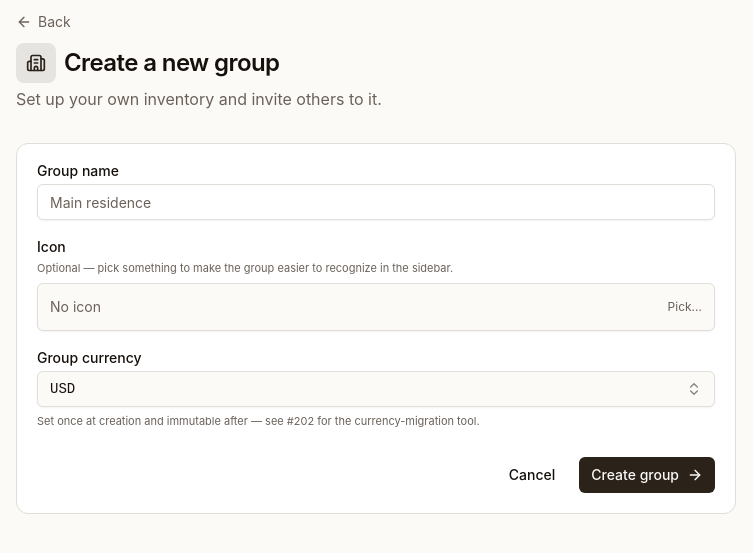
Test: <CreateGroupPage /> › validates the name field
Click the button with test id "create-group-submit".
click(647, 475)  # box [579,457,715,493]
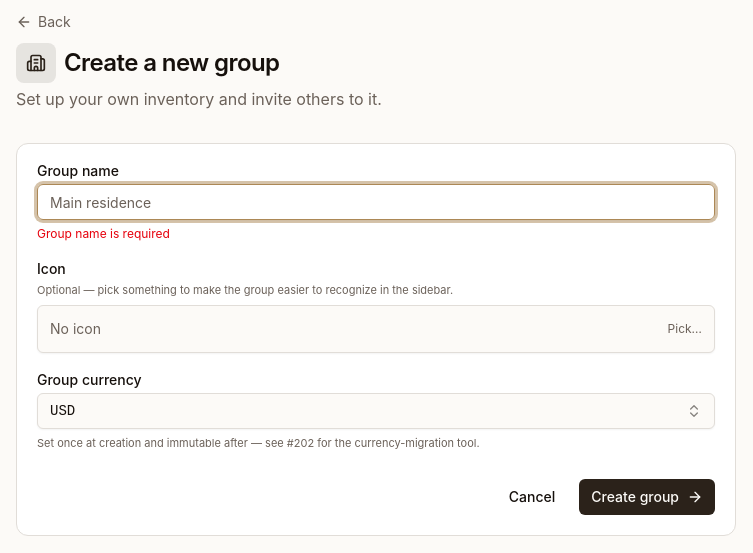
Expected: the text "Group name is required" is shown, [37,226,170,241]
